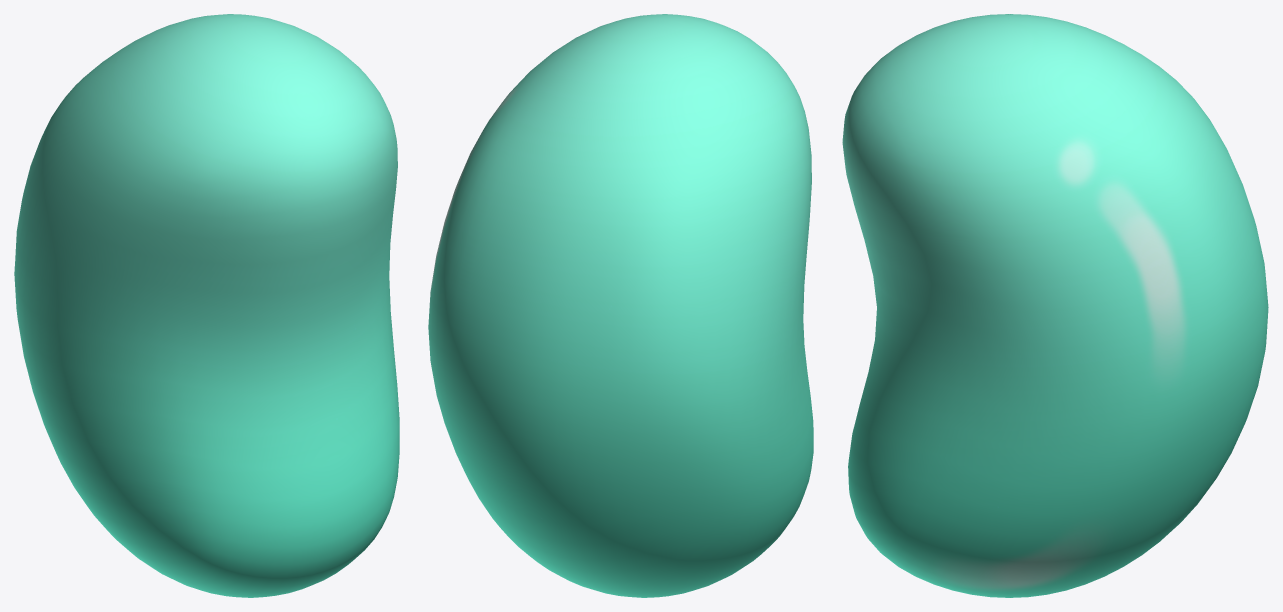
The model's file is JellyBean_Blue.fbx.
3 views of the same model, side by side, from view 1: azimuth 30°, elevation 25°; view 2: azimuth 150°, elevation 25°; view 3: azimuth 270°, elevation 25° (orthographic).
Parts seen in each view (by area): view 1: JellyBean; view 2: JellyBean; view 3: JellyBean.
Boxes of the visible parts, <box> form: JellyBean: <box>14,14,399,597</box>; JellyBean: <box>428,14,813,597</box>; JellyBean: <box>842,14,1268,597</box>.
Bounding box in the file's own units: 56.01 × 91.46 × 63.72.
1 material, 1 textured.
